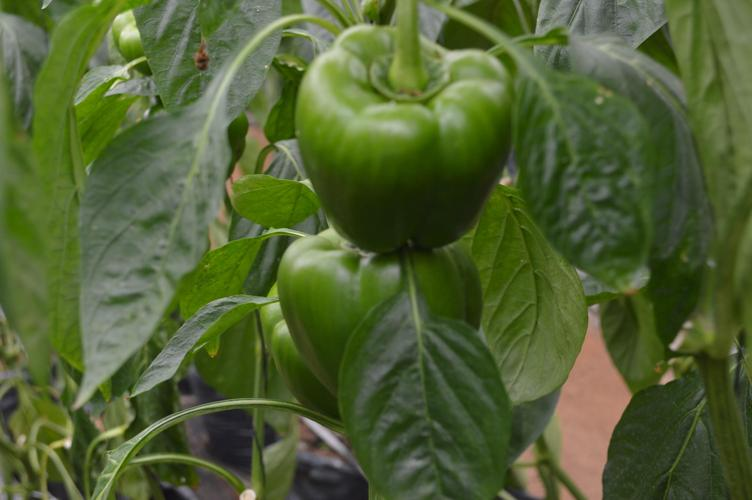BellPepper: (291, 26, 516, 249), (272, 231, 485, 382), (263, 297, 343, 422)
